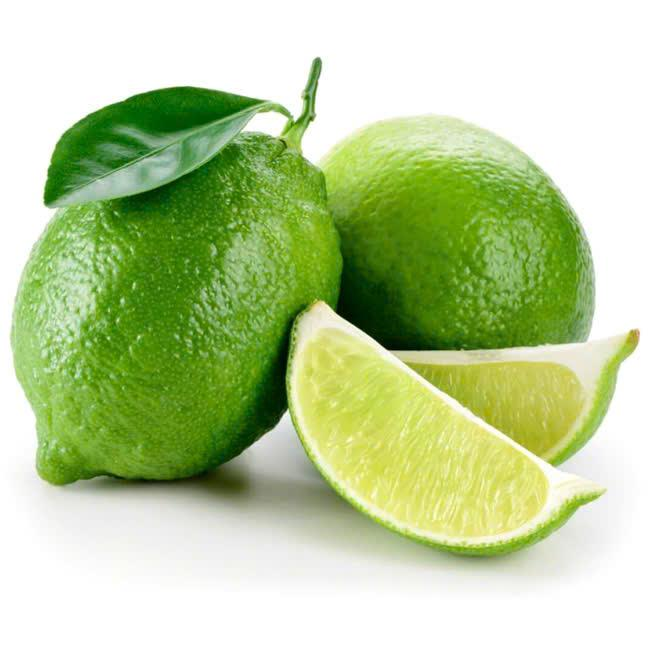lime: (21, 84, 317, 481), (301, 293, 633, 573), (297, 90, 621, 332)
